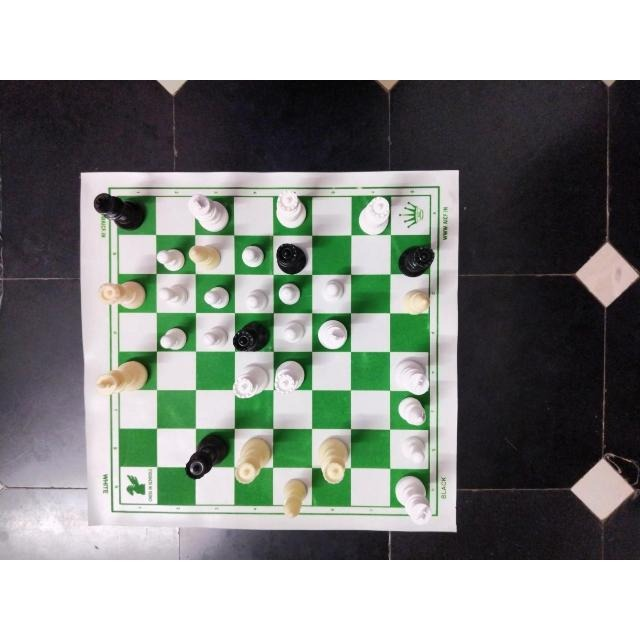black-king: (91, 192, 147, 232)
black-queen: (182, 432, 228, 480), (397, 243, 436, 277), (274, 242, 310, 273), (234, 321, 270, 352)
white-bishop: (281, 478, 309, 519), (188, 244, 222, 271), (396, 396, 427, 425), (401, 289, 431, 315)
white-king: (394, 475, 433, 526), (94, 359, 148, 395), (187, 192, 231, 233), (392, 359, 431, 395), (316, 317, 348, 349)
white-pawn: (402, 435, 428, 465), (157, 283, 188, 308), (202, 285, 230, 310), (201, 324, 229, 349), (157, 247, 185, 271), (159, 326, 187, 350), (321, 278, 346, 304), (240, 243, 265, 268), (280, 320, 305, 344), (243, 289, 268, 313), (277, 282, 300, 306)
white-queen: (234, 436, 272, 484), (316, 437, 352, 485), (98, 280, 148, 310), (232, 360, 268, 399), (356, 195, 391, 235), (274, 190, 309, 229), (273, 359, 305, 395)
